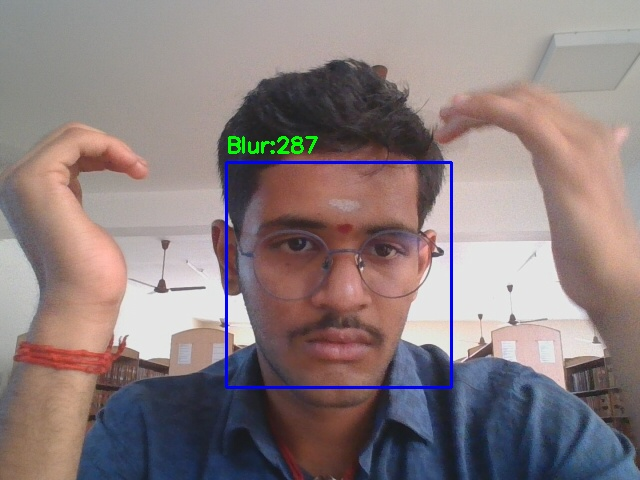real: (226, 162, 451, 387)
